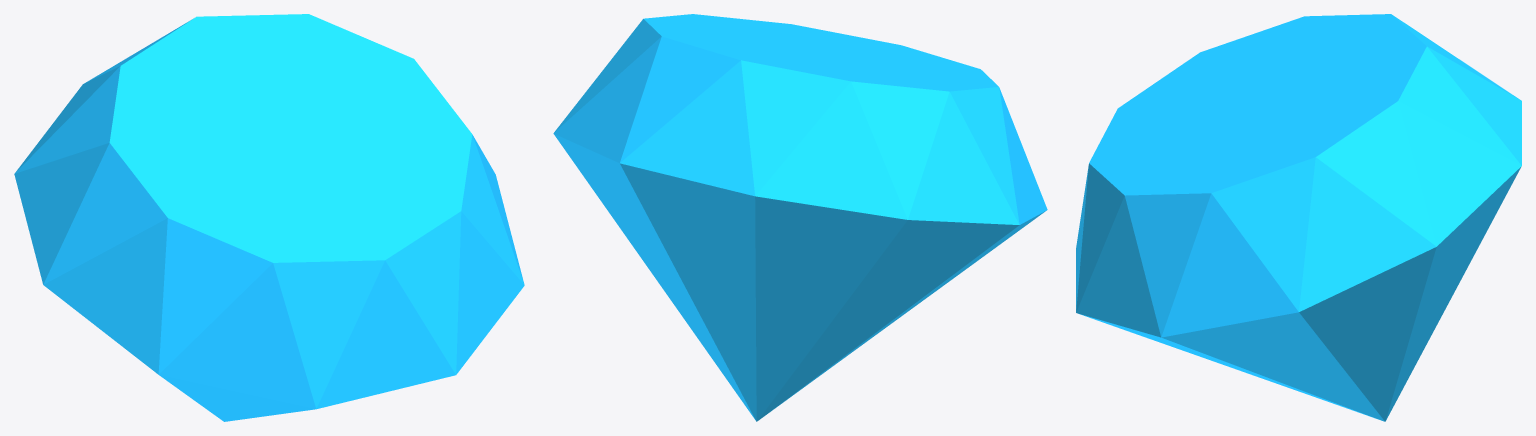
The model's file is BI_Diamond.fbx.
3 views of the same model, side by side, from view 1: azimuth 30°, elevation 25°; view 2: azimuth 150°, elevation 25°; view 3: azimuth 270°, elevation 25° (orthographic). The views are drawn at different scales.
Parts seen in each view (by area): view 1: Diamond; view 2: Diamond; view 3: Diamond.
Boxes of the visible parts, left/top/right/bottom form: Diamond: left=14, top=14, right=524, bottom=421; Diamond: left=553, top=14, right=1047, bottom=421; Diamond: left=1076, top=14, right=1521, bottom=421.
Bounding box in the file's own units: 1.19 × 0.9778 × 1.06.
